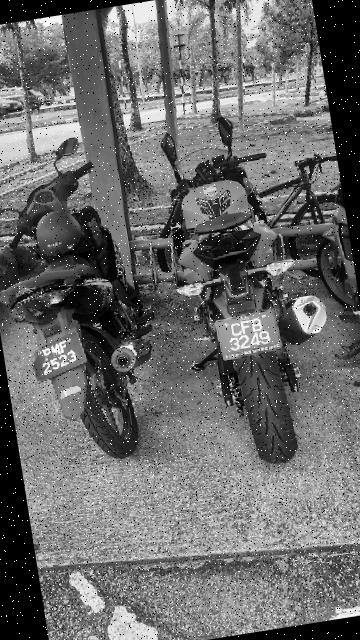License_Plate: (207, 302, 290, 368), (20, 328, 101, 383)
motorcycle: (126, 87, 355, 482), (1, 114, 176, 475)
